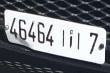4: (9, 14, 19, 40), (27, 19, 37, 42), (46, 23, 56, 45)
6: (37, 20, 46, 44), (18, 18, 27, 40)
7: (86, 30, 98, 55)
a: (66, 27, 74, 49)
